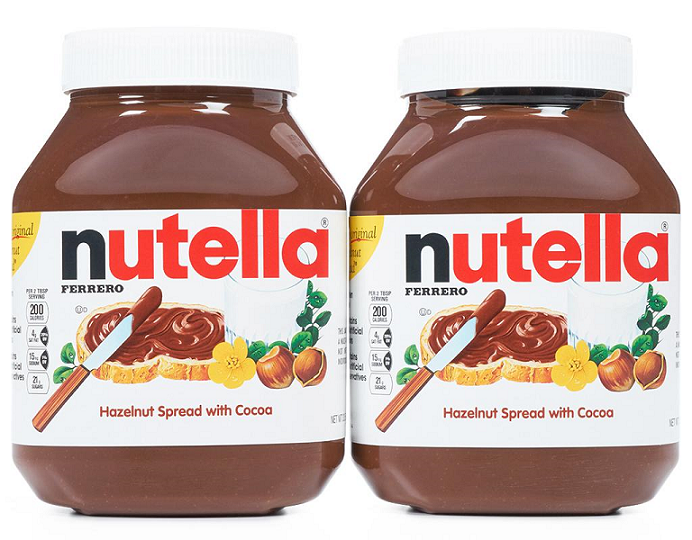nutella: (9, 24, 349, 519), (347, 26, 681, 517)
